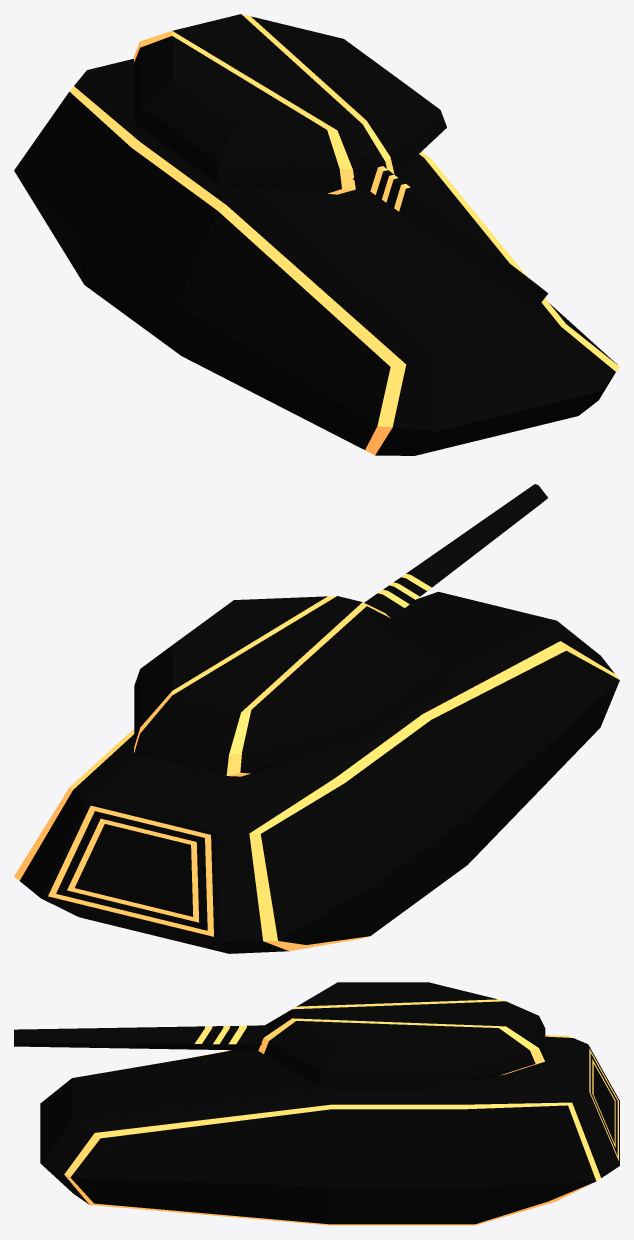
The model's file is tank_a.fbx.
3 views of the same model, one above another, from view 1: azimuth 30°, elevation 25°; view 2: azimuth 150°, elevation 25°; view 3: azimuth 270°, elevation 25° (orthographic). The views are drawn at different scales.
Visible parts, largest first — view 1: Tank_Bottom, Tower, Cannon; view 2: Tank_Bottom, Tower, Cannon; view 3: Tank_Bottom, Tower, Cannon.
Part boxes in pixels (box(x1,y1,x2,y2)): Tank_Bottom: box(14, 58, 619, 455); Tower: box(134, 14, 446, 194); Cannon: box(353, 153, 547, 306); Tank_Bottom: box(14, 591, 619, 953); Tower: box(134, 596, 446, 776); Cannon: box(364, 484, 547, 618); Tank_Bottom: box(40, 1035, 619, 1225); Tower: box(258, 982, 545, 1089); Cannon: box(14, 1025, 272, 1050).
Bounding box in the file's own units: 700 × 493 × 1672.
